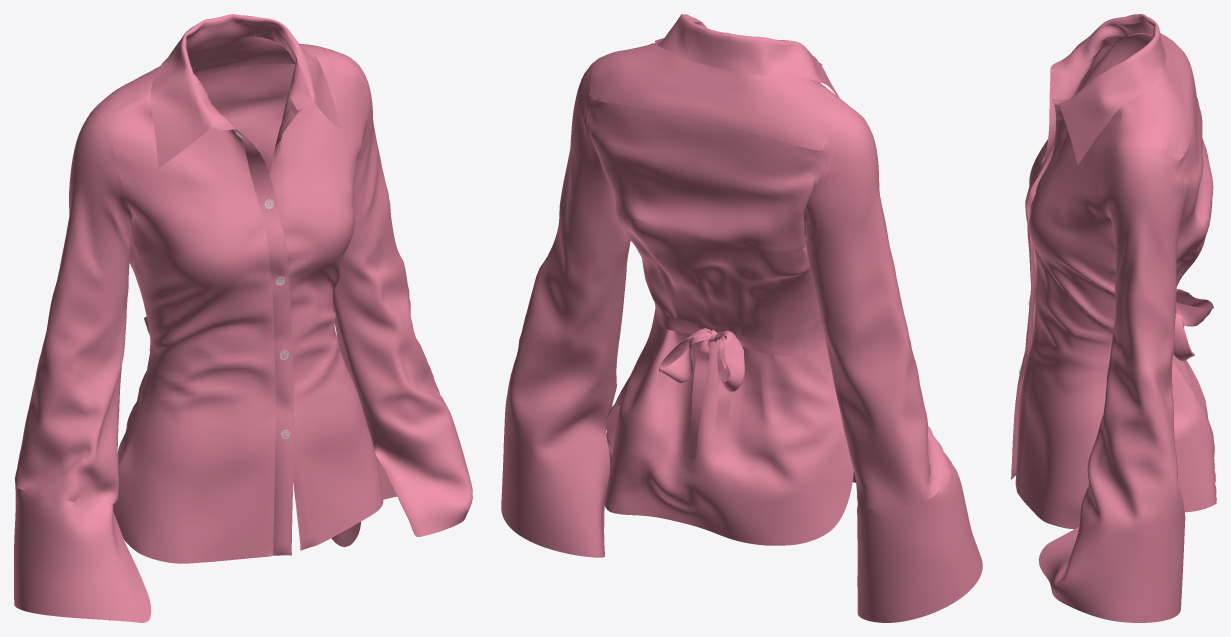
Rendered from pink_shirt.glb.
The picture shows the model from 3 angles, left to right: view 1: azimuth 30°, elevation 25°; view 2: azimuth 150°, elevation 25°; view 3: azimuth 270°, elevation 25°; orthographic projection. The views are drawn at different scales.
Visible parts, largest first — view 1: button.002; view 2: button.002; view 3: button.002.
Part boxes in pixels (x1,y1,x2,y2): button.002: [14, 14, 472, 622]; button.002: [501, 14, 982, 622]; button.002: [1011, 14, 1216, 622].
Size of the model in its own units: 1.39 by 1.65 by 0.5924.
